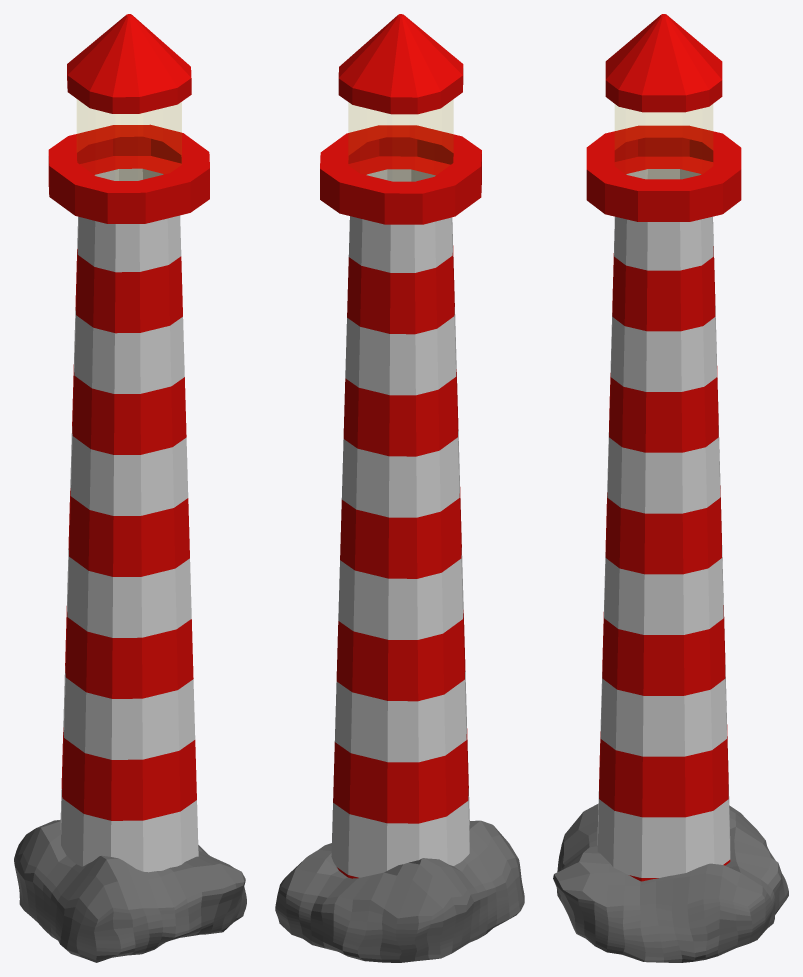
File: phare.fbx
3 views of the same model, side by side, from view 1: azimuth 30°, elevation 25°; view 2: azimuth 150°, elevation 25°; view 3: azimuth 270°, elevation 25° (orthographic).
Visible parts, largest first — view 1: Cube.001, Cube; view 2: Cube.001, Cube; view 3: Cube.001, Cube.
Boxes of the visible parts, left/top/right/bottom form: Cube.001: left=48, top=14, right=209, bottom=872; Cube: left=14, top=819, right=246, bottom=962; Cube.001: left=320, top=14, right=481, bottom=878; Cube: left=275, top=820, right=524, bottom=962; Cube.001: left=586, top=14, right=741, bottom=881; Cube: left=553, top=804, right=788, bottom=962.
Size of the model in its own units: 2235 by 10093 by 2390.
